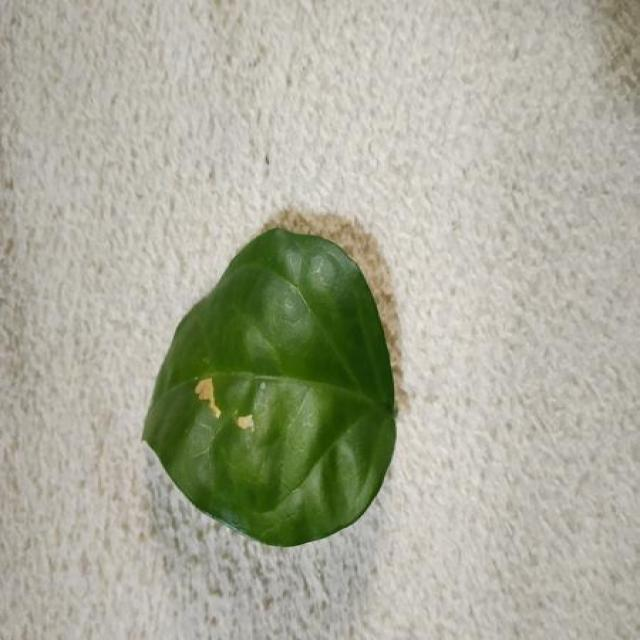Jasmine: (143, 229, 395, 546)
